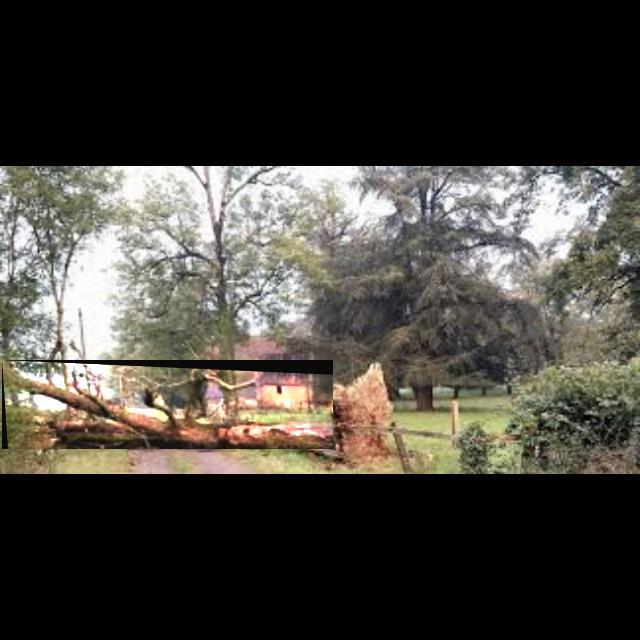fallen_tree: (2, 360, 334, 450)
